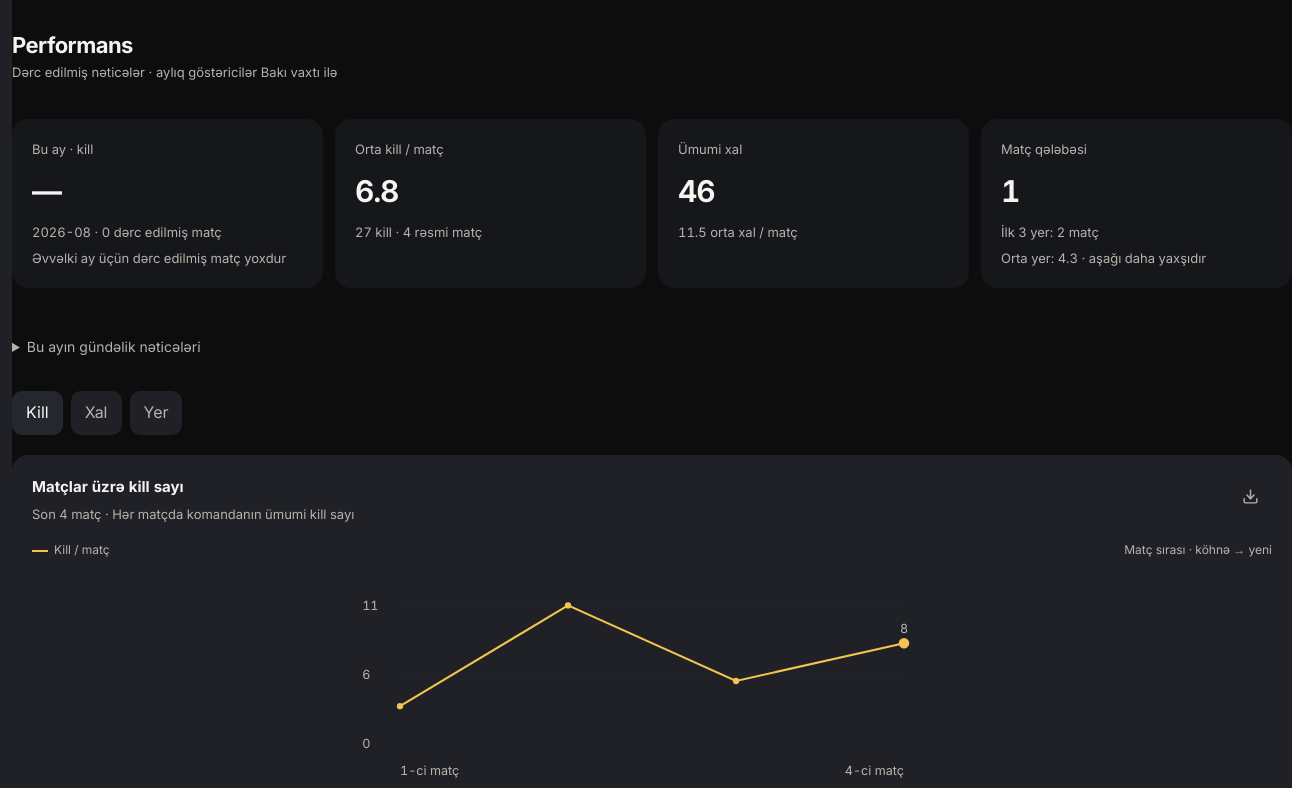
Test: names the actual metrics and updates title and unit with the chosen series
Check: the heading "Matçlar üzrə kill sayı" is shown, box [32, 477, 184, 496]
Click the button "Xal" at (96, 413), box [71, 391, 122, 435]
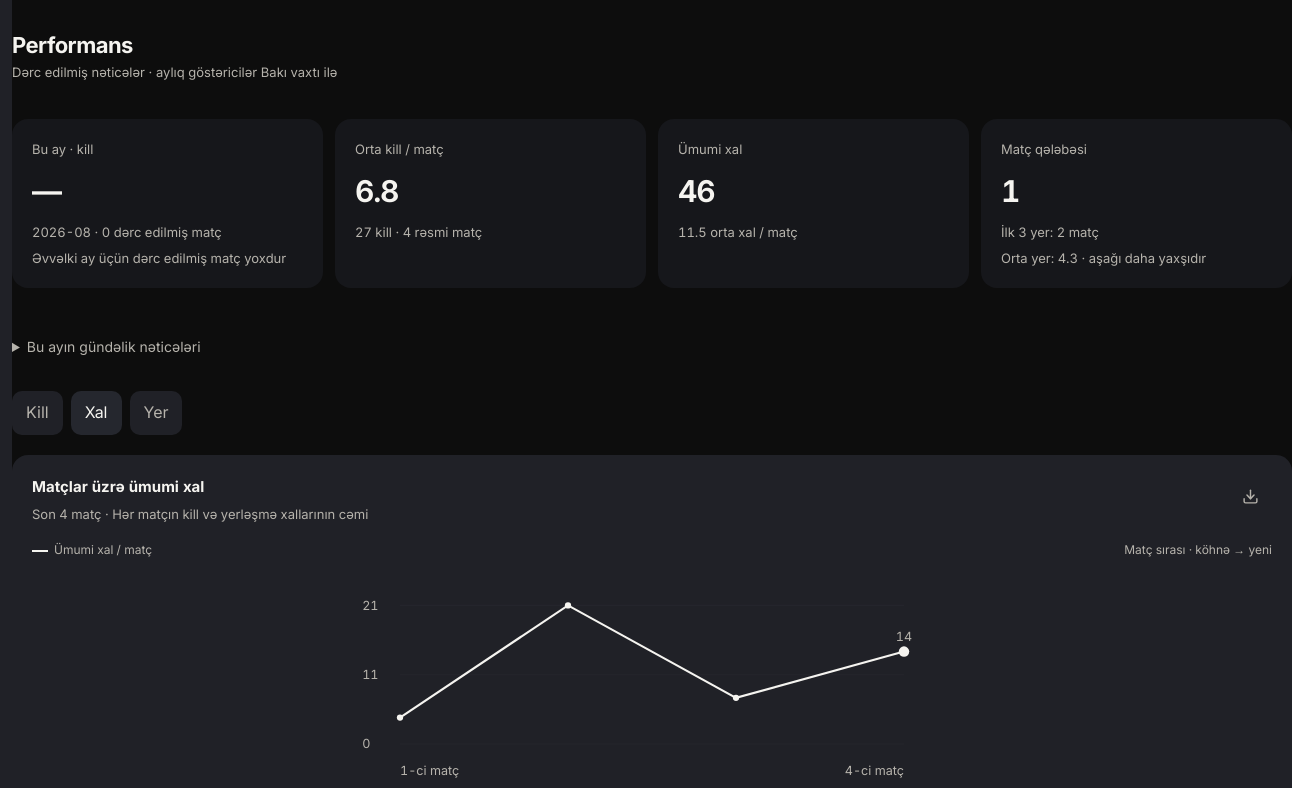
Check: the heading "Matçlar üzrə ümumi xal" is shown, box [32, 477, 204, 496]
Check: the text "Ümumi xal / matç" is shown, box [54, 542, 152, 557]
Click the button "Yer" at (156, 413), box [130, 391, 182, 435]
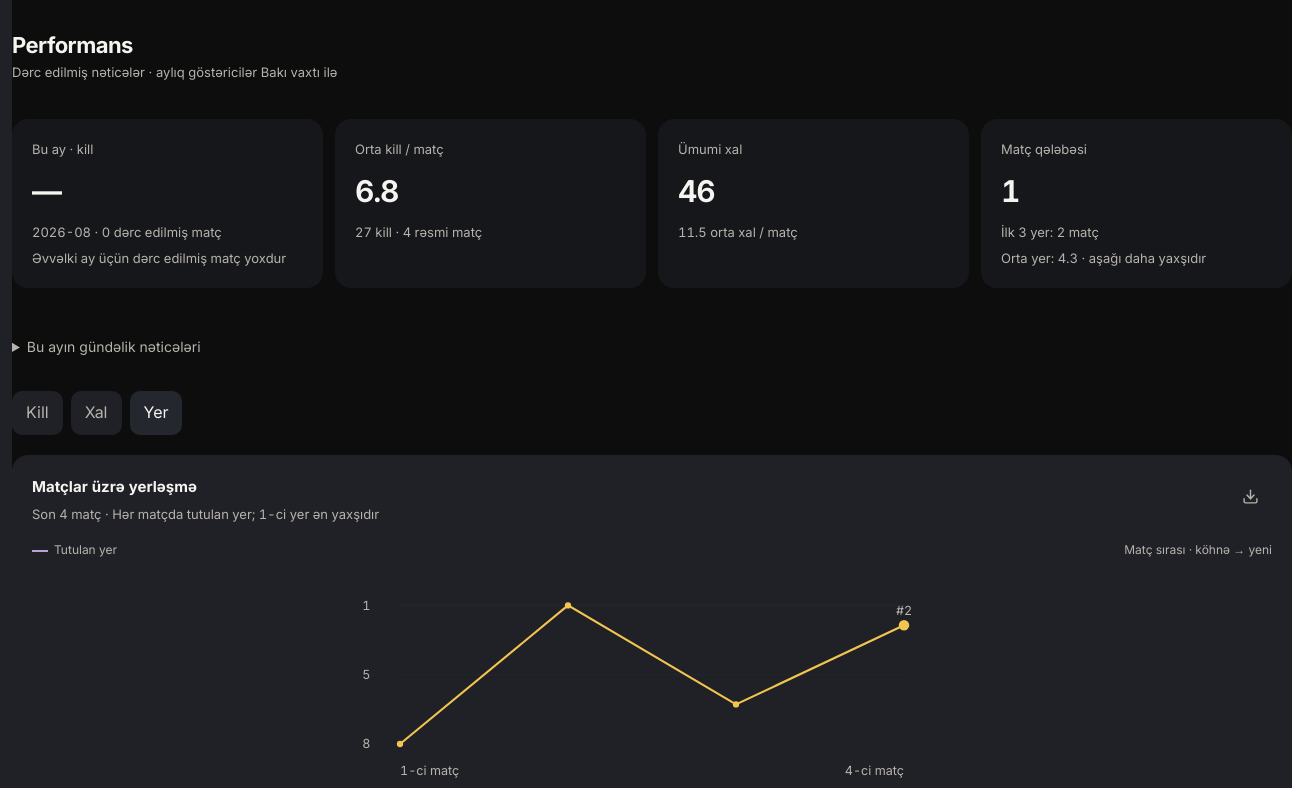
Check: the heading "Matçlar üzrə yerləşmə" is shown, box [32, 477, 197, 496]
